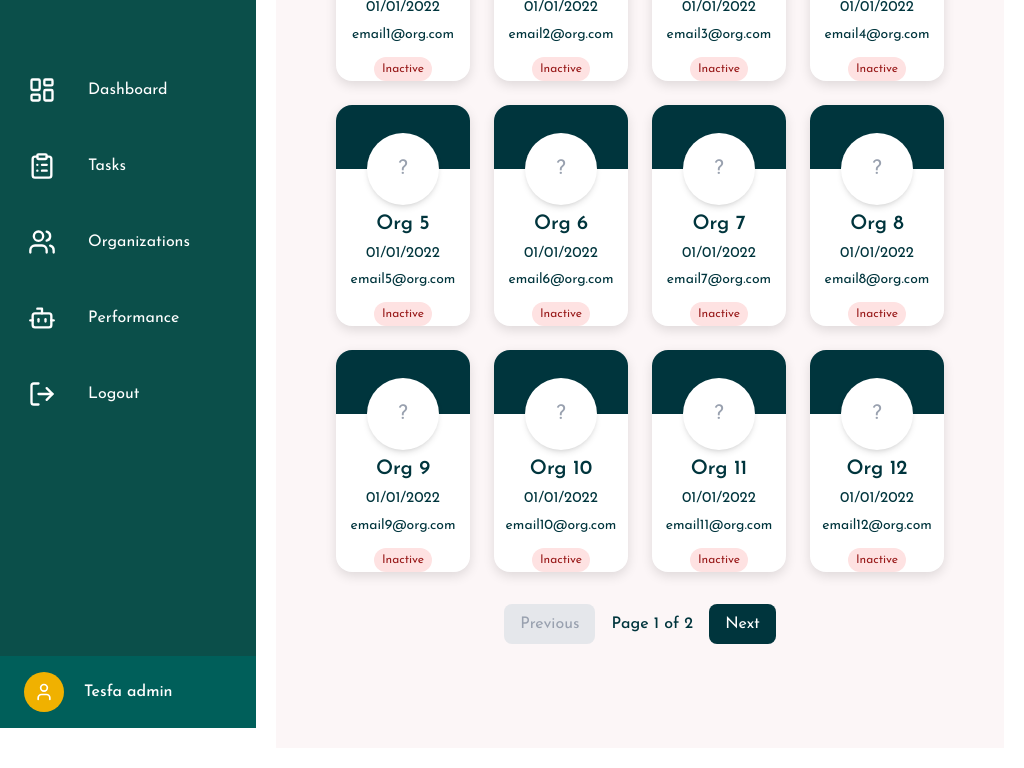
Test: OrganizationsPage › renders organizations and handles pagination
The width and height of the screenshot is (1024, 768).
(page scrolled)
Check: the text "Page 1 of 2" is shown, box [611,612,693,636]
Click the button "Next" at (742,624), box [709,604,776,644]
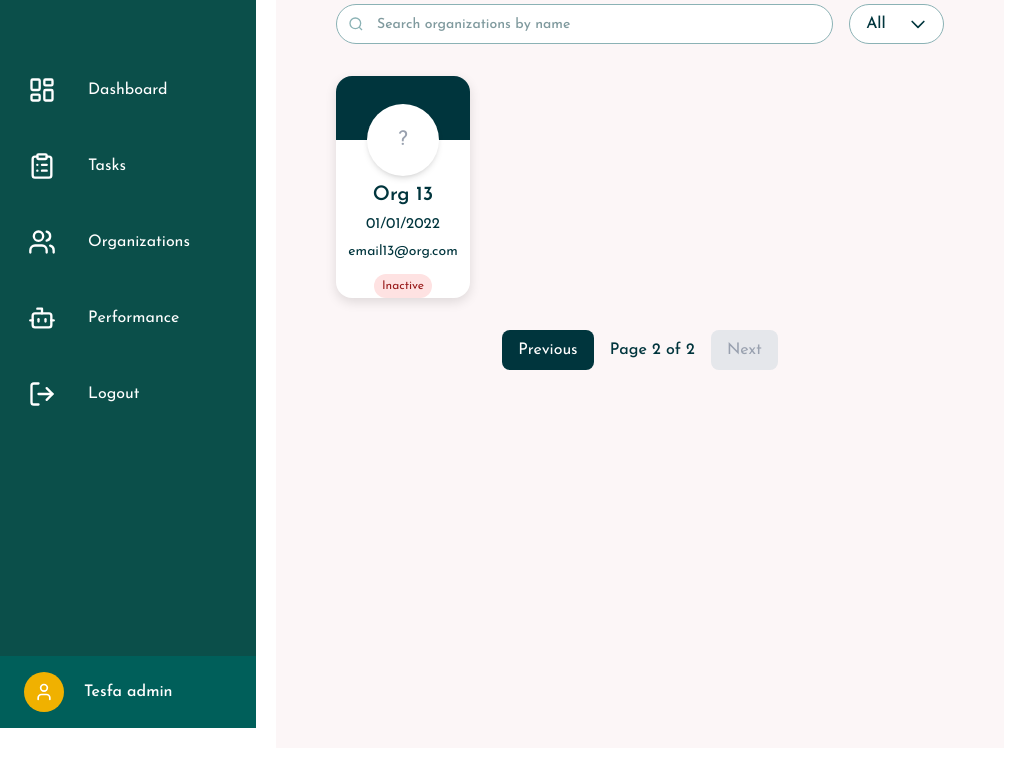
Check: the text "Page 2 of 2" is shown, box [610,338,695,362]
Check: the text "?" is shown once, box [398,126,408,154]
Click the button "Previous" at (548,350), box [502,330,594,370]
(page scrolled)
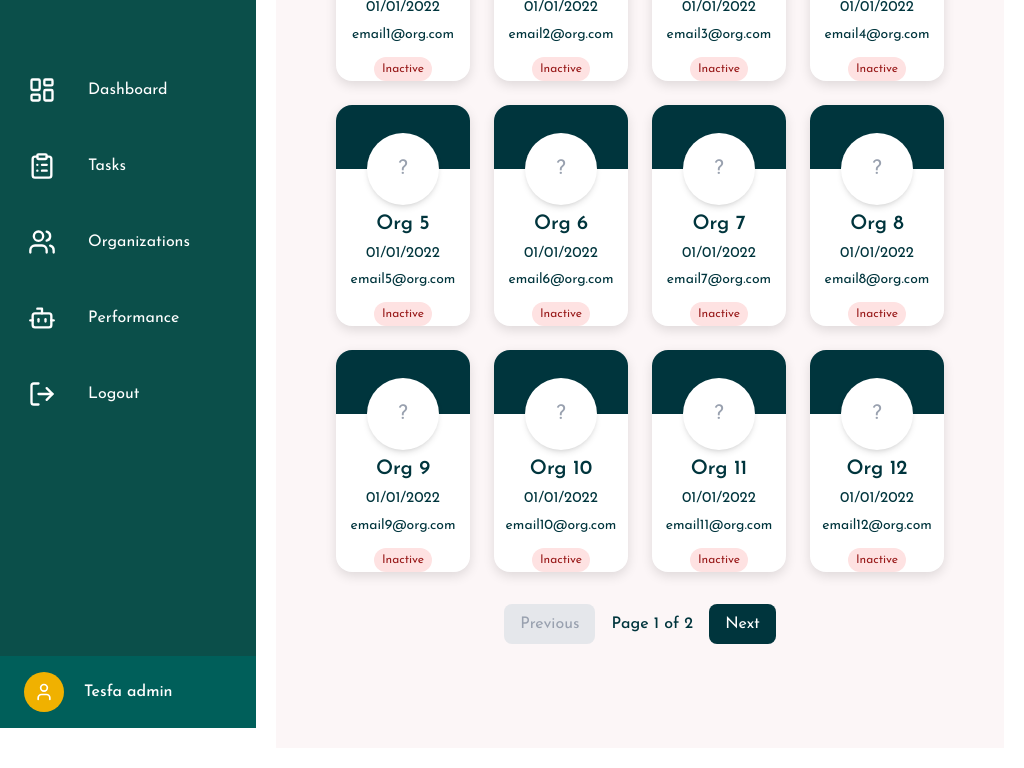
Check: the text "Page 1 of 2" is shown, box [611,612,693,636]
